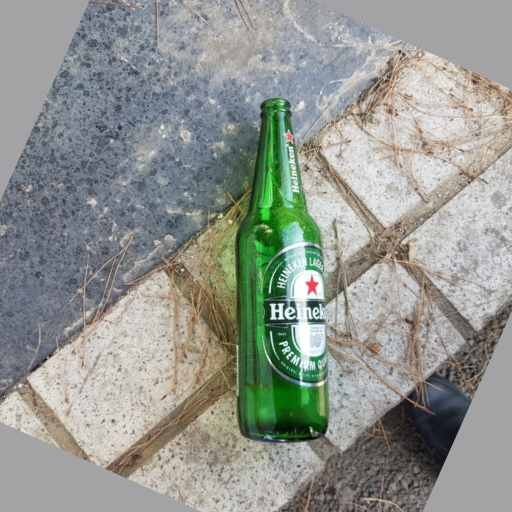Glass_1: (229, 99, 331, 449)
